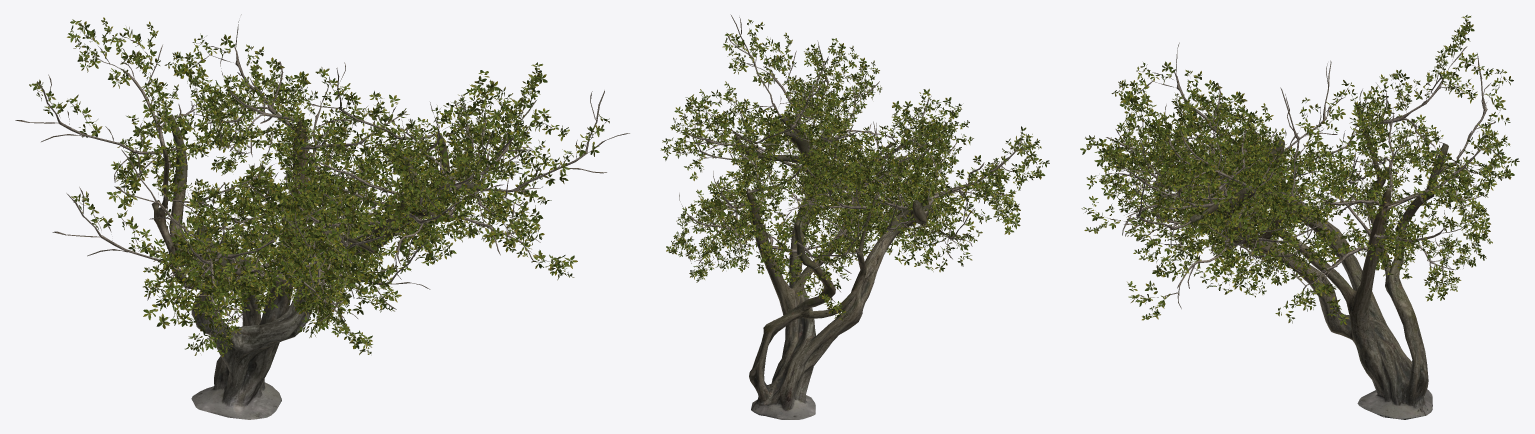
File: island_tree_02_near.gltf
The picture shows the model from 3 angles, left to right: view 1: azimuth 30°, elevation 25°; view 2: azimuth 150°, elevation 25°; view 3: azimuth 270°, elevation 25°; orthographic projection. The views are drawn at different scales.
Parts seen in each view (by area): view 1: island_tree_02_LOD0; view 2: island_tree_02_LOD0; view 3: island_tree_02_LOD0.
Boxes of the visible parts, x1,y1,x2,y2 form: island_tree_02_LOD0: (15,14,629,419); island_tree_02_LOD0: (660,14,1049,419); island_tree_02_LOD0: (1080,15,1519,419).
Bounding box in the file's own units: 4.21 × 3.41 × 4.08.
3 materials, 3 textured.
